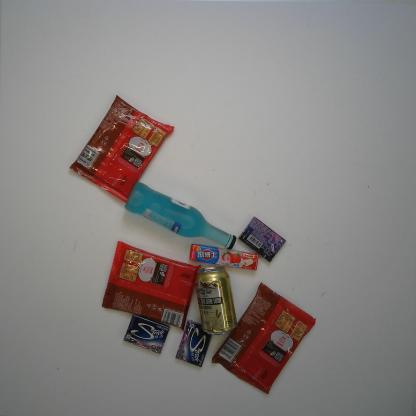Alcohol: (123, 182, 237, 250), (194, 264, 237, 336)
Candy: (188, 243, 260, 270)
Dessert: (210, 281, 317, 396), (69, 94, 176, 204), (101, 240, 202, 334)
Gum: (237, 215, 288, 264), (174, 318, 214, 368), (122, 314, 171, 354)
